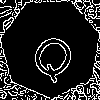Q: (25, 23, 85, 86)
